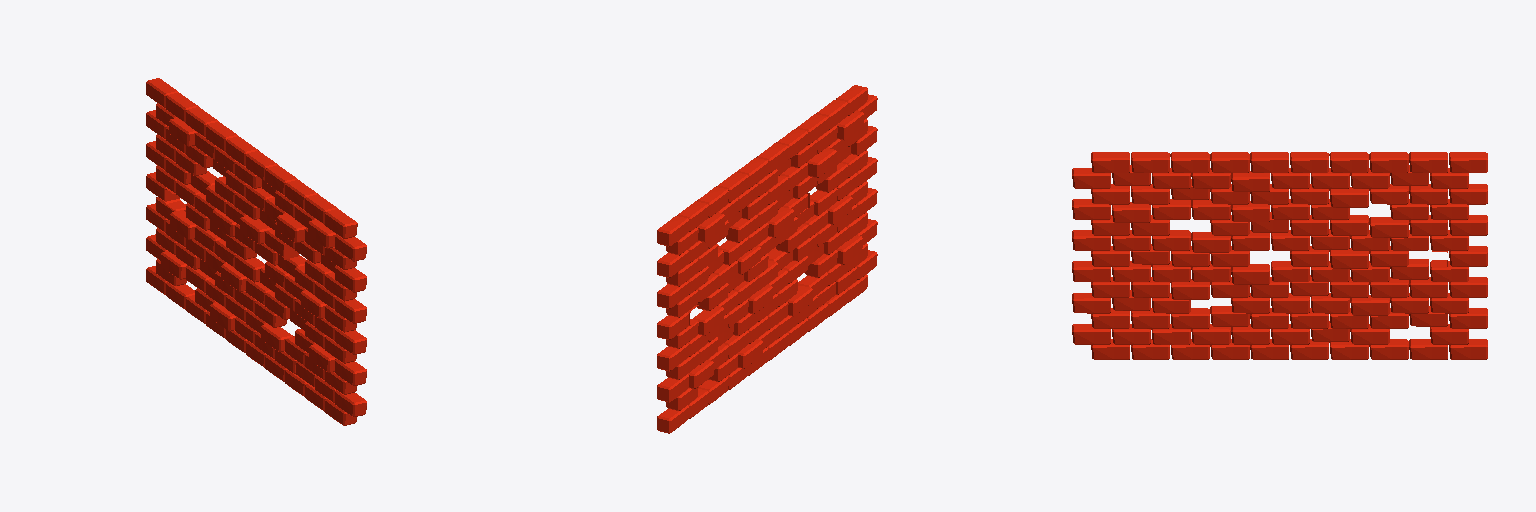
The model's file is jenga_wall.obj.
3 views of the same model, side by side, from view 1: azimuth 30°, elevation 25°; view 2: azimuth 150°, elevation 25°; view 3: azimuth 270°, elevation 25° (orthographic).
Visible parts, largest first — view 1: Cube; view 2: Cube; view 3: Cube.
Boxes of the visible parts, x1=… form: Cube: x1=146, y1=78, x2=366, y2=425; Cube: x1=657, y1=85, x2=877, y2=433; Cube: x1=1072, y1=152, x2=1487, y2=359.
Bounding box in the file's own units: 4.21 × 26.44 × 49.31.